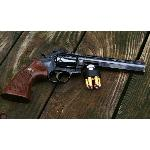Pistol: (0, 40, 146, 101)
